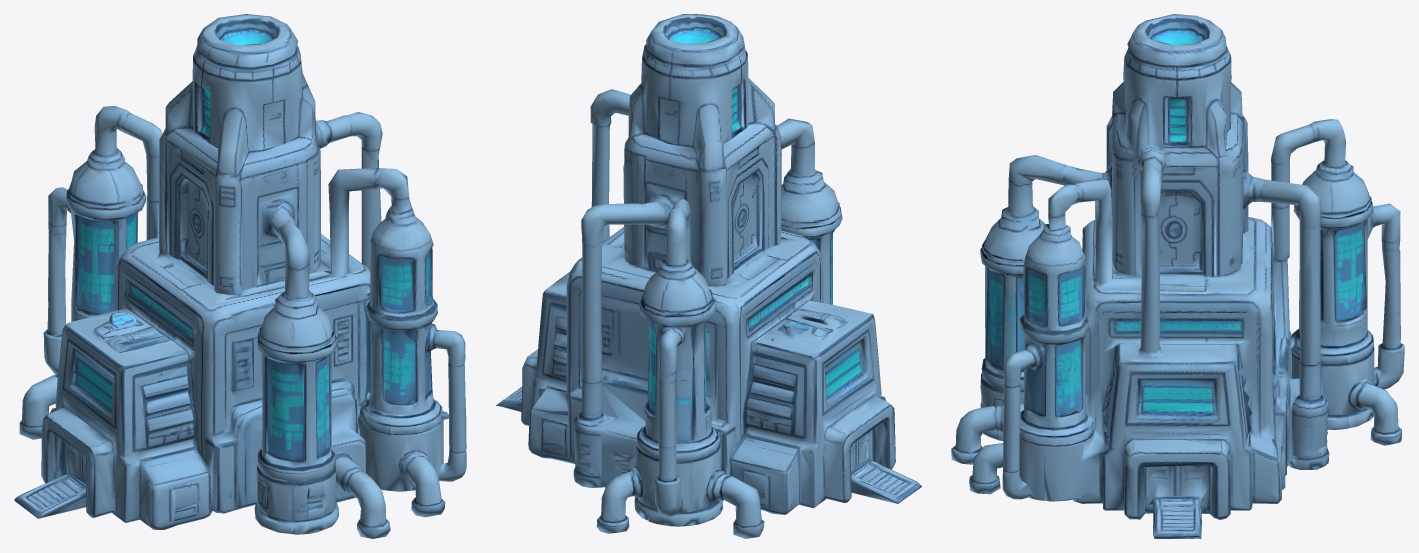
The model's file is building-town-hall.glb.
The picture shows the model from 3 angles, left to right: view 1: azimuth 30°, elevation 25°; view 2: azimuth 150°, elevation 25°; view 3: azimuth 270°, elevation 25°; orthographic projection. The views are drawn at different scales.
Parts seen in each view (by area): view 1: tripo_node_e320304d-ebfe-468e-9e8a-5d8ba76ae28b; view 2: tripo_node_e320304d-ebfe-468e-9e8a-5d8ba76ae28b; view 3: tripo_node_e320304d-ebfe-468e-9e8a-5d8ba76ae28b.
Part boxes in pixels (left/top/right/bottom): tripo_node_e320304d-ebfe-468e-9e8a-5d8ba76ae28b: left=14, top=14, right=466, bottom=538; tripo_node_e320304d-ebfe-468e-9e8a-5d8ba76ae28b: left=496, top=14, right=921, bottom=538; tripo_node_e320304d-ebfe-468e-9e8a-5d8ba76ae28b: left=951, top=14, right=1404, bottom=538.
Bounding box in the file's own units: 0.9795 × 0.9662 × 0.9482.
Materials: 1 (1 with a texture image).
